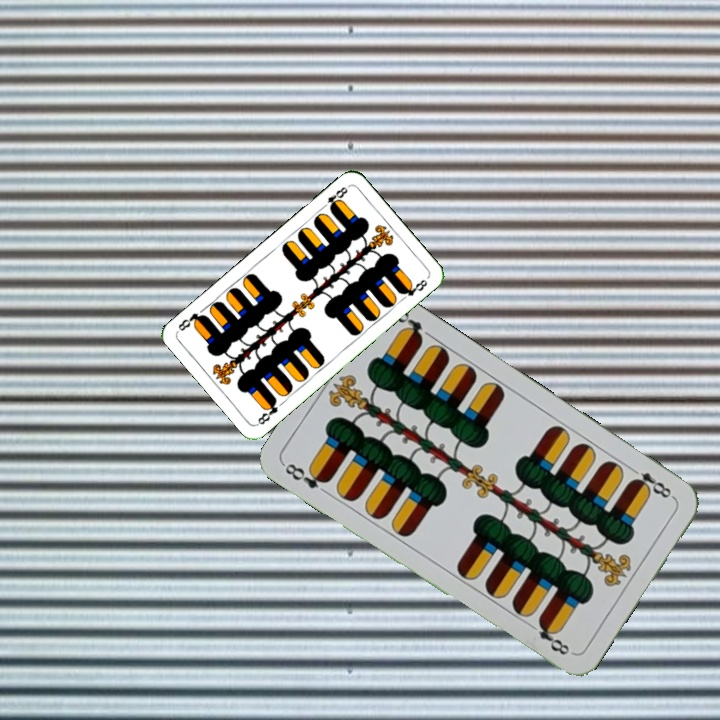E8: (625, 462, 677, 502), (280, 459, 333, 491), (317, 182, 350, 213), (253, 394, 281, 427)
